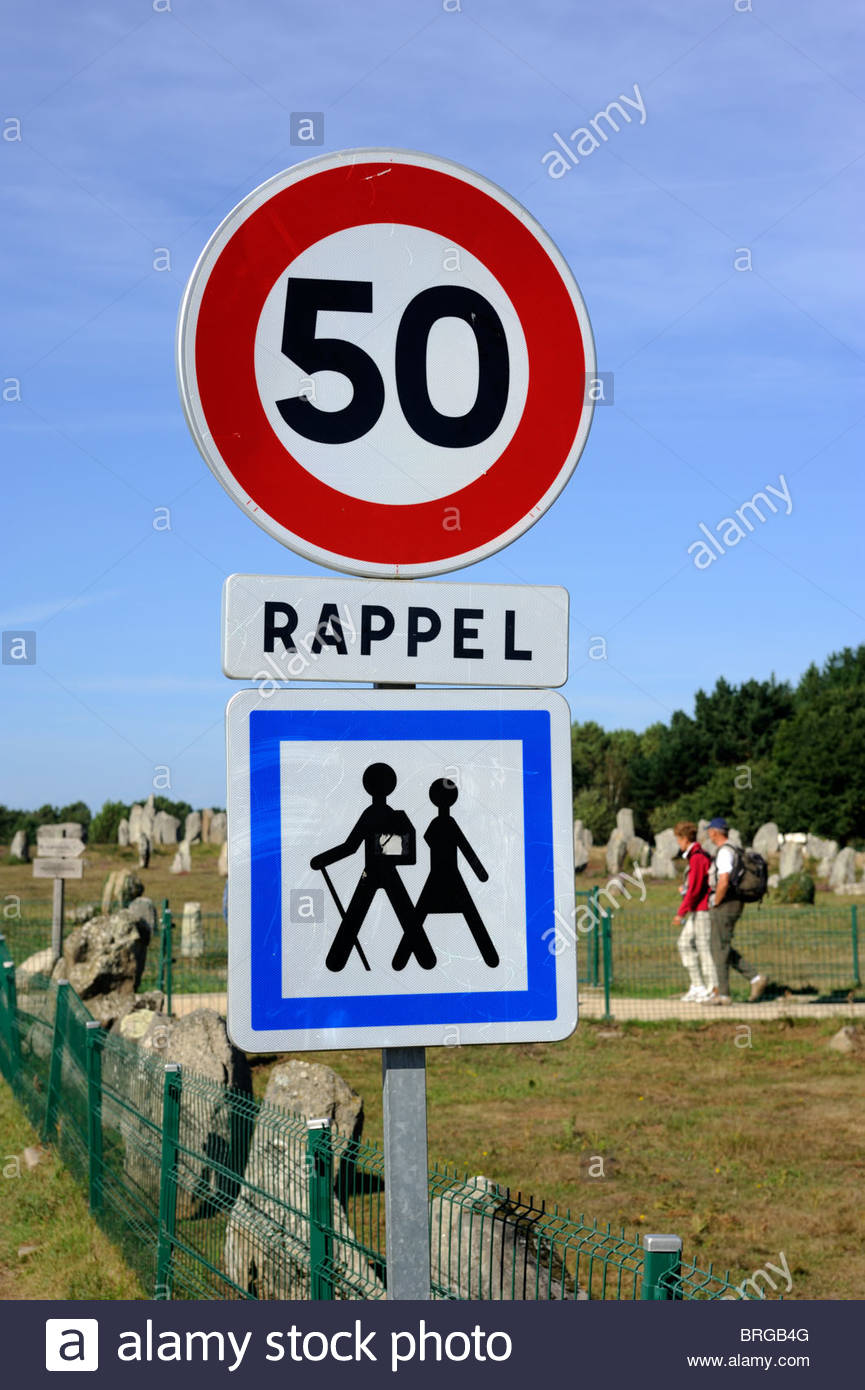speed_limit_50: (186, 154, 593, 578)
